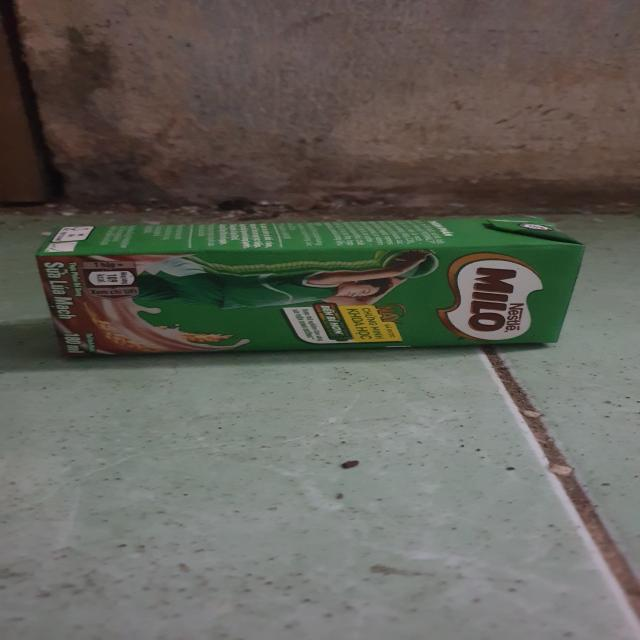Milo: (29, 207, 592, 362)
